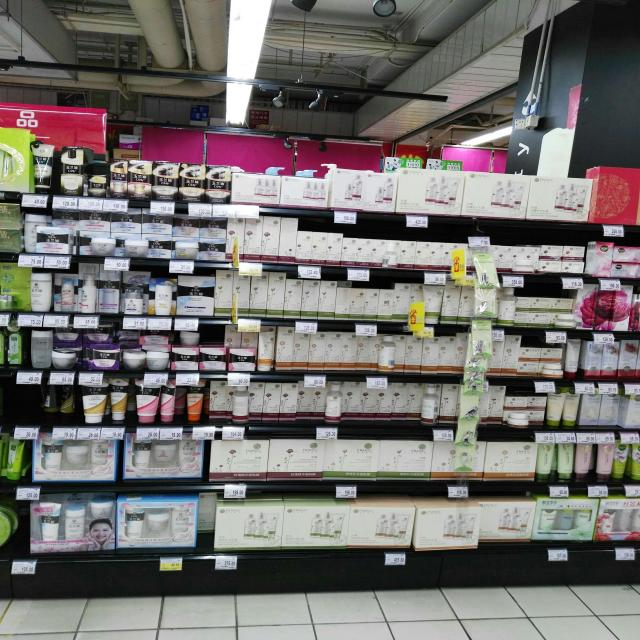unorganised: (30, 498, 117, 557), (116, 495, 197, 551), (414, 505, 480, 553), (480, 503, 535, 544), (39, 384, 78, 422), (298, 379, 325, 424), (108, 377, 131, 423), (418, 383, 440, 424), (257, 327, 276, 373), (160, 379, 180, 421), (197, 493, 215, 539), (563, 338, 582, 378), (324, 381, 341, 423), (234, 382, 249, 427), (179, 330, 199, 345)
